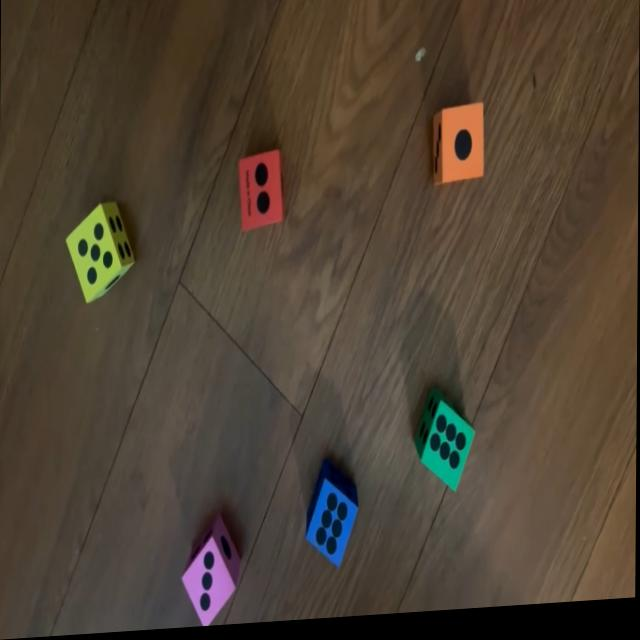blue_block: (304, 463, 359, 576)
red_block: (236, 152, 286, 237)
